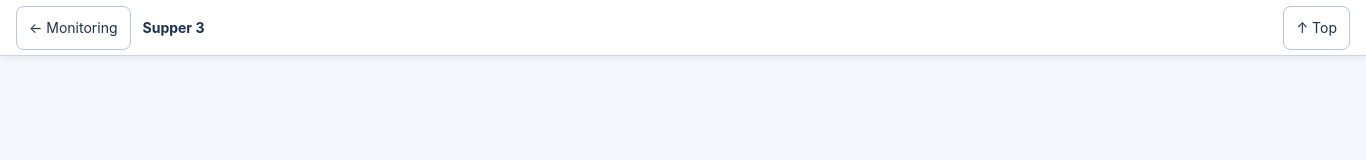
Test: nested destinations restore parents without using browser history
Later steps or results of the test are not shown.
Click the button "← Monitoring" at (73,28), box [16,6,130,50]
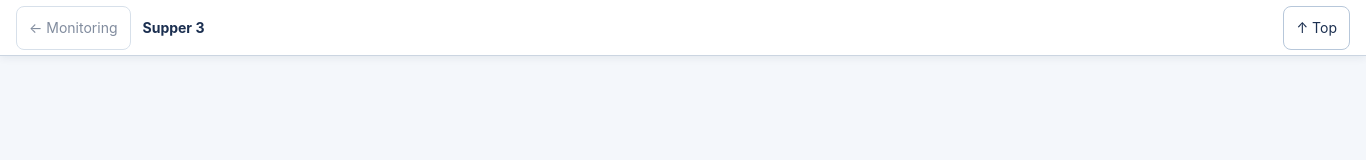
Click the button "← Monitoring" at (73,28), box [16,6,130,50]
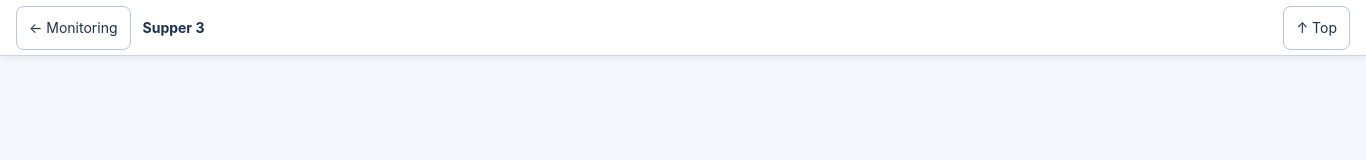
Click the button "← Monitoring" at (73,28), box [16,6,130,50]
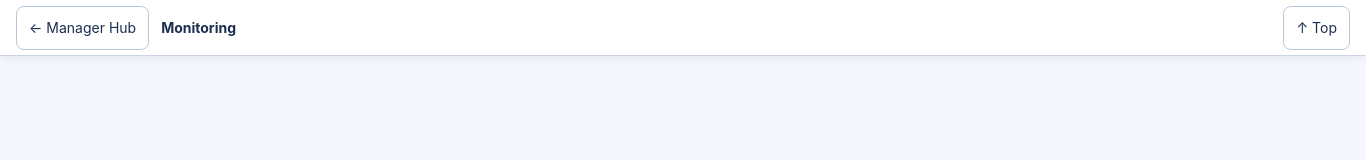
Result: the button "← Manager Hub" is shown at [16,6,149,50]
